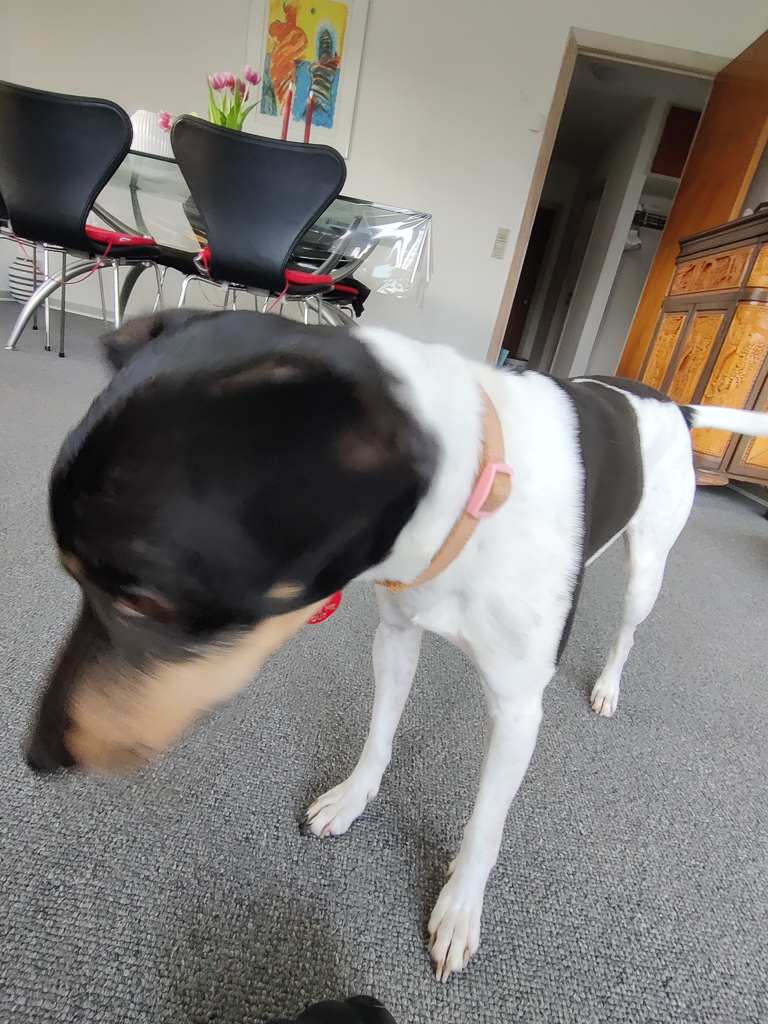Dog: (11, 275, 768, 989)
Humanoid: (257, 975, 413, 1024)
